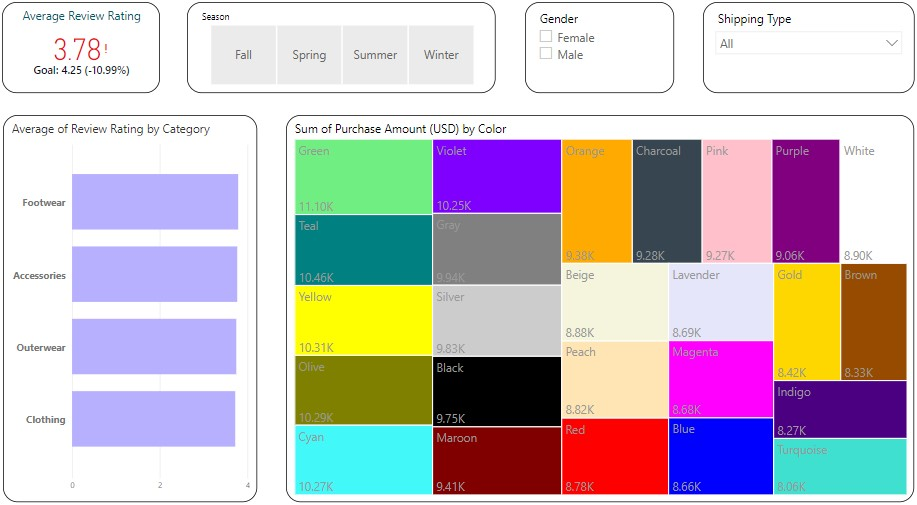

The page's visual inventory and layout, read from the dashboard file:
{"tool":"powerbi","page":{"name":"Rating & Item Characteristics","canvas":[1280,720],"ordinal":3},"visuals":[{"type":"slicer","title":"Gender","fields":{"Values":["shopping_trends_updated.Gender"]},"box":[727.2,13,203,123.8],"z":0},{"type":"slicer","fields":{"Values":["shopping_trends_updated.Season"]},"box":[266.4,13,420.5,123.8],"z":1000},{"type":"treemap","fields":{"Values":["Sum(shopping_trends_updated.Purchase Amount (USD))"],"Group":["shopping_trends_updated.Color"]},"box":[401.8,167,855.4,527],"z":2000},{"type":"slicer","title":"Shipping Tyoe","fields":{"Values":["shopping_trends_updated.Shipping Type"]},"box":[969.1,13,288,123.8],"z":3000},{"type":"kpi","title":"Average Review Rating","fields":{"Goal":["shopping_trends_updated.Avg Target Rating"],"Indicator":["shopping_trends_updated.Avg Review Rating"],"TrendLine":["shopping_trends_updated.Item Purchased"]},"box":[14.4,13,214.6,123.8],"z":4000},{"type":"barChart","fields":{"Y":["Avg(shopping_trends_updated.Review Rating)"],"Category":["shopping_trends_updated.Category"]},"box":[15.8,167,345.6,527],"z":5000}]}

Visuals, with their boxes in screenshot pixels (x1, y1, x2, y2), scaled from the page's 1280x720 canvas onto the 917x505 screenshot:
"Gender" slicer: x1=521, y1=9, x2=666, y2=96
slicer - shopping_trends_updated.Season: x1=191, y1=9, x2=492, y2=96
treemap - Sum(shopping_trends_updated.Purchase Amount (USD)) x shopping_trends_updated.Color: x1=288, y1=117, x2=901, y2=487
"Shipping Tyoe" slicer: x1=694, y1=9, x2=901, y2=96
"Average Review Rating" kpi: x1=10, y1=9, x2=164, y2=96
barChart - Avg(shopping_trends_updated.Review Rating) x shopping_trends_updated.Category: x1=11, y1=117, x2=259, y2=487
